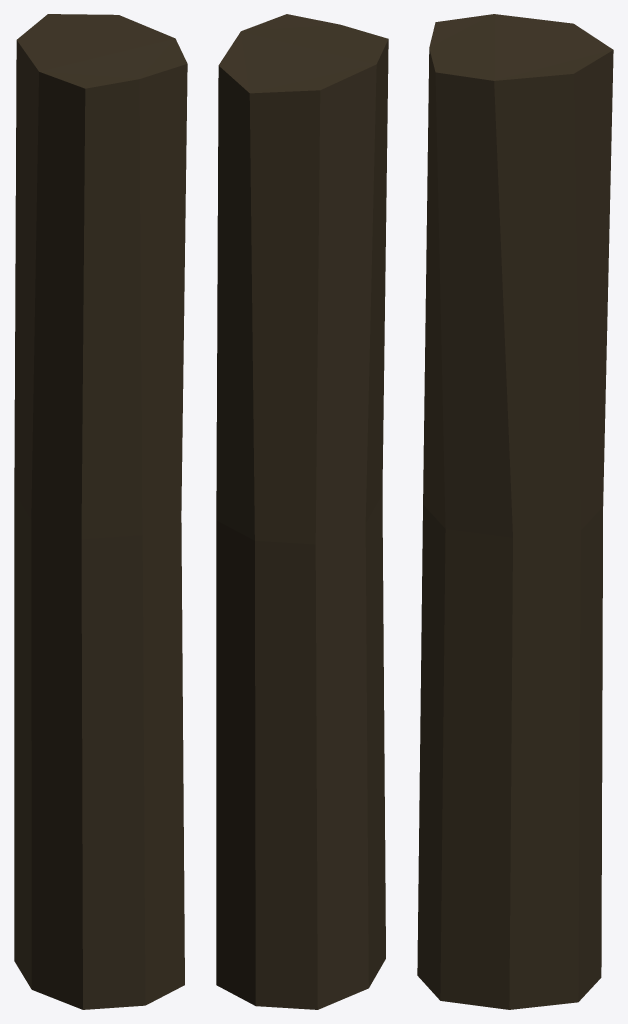
File: EA03_Wooden_Pin_01b.glb
3 renders of one model, left to right at view 1: azimuth 30°, elevation 25°; view 2: azimuth 150°, elevation 25°; view 3: azimuth 270°, elevation 25°, orthographic.
Parts seen in each view (by area): view 1: EA03_Wooden_Pin_01b; view 2: EA03_Wooden_Pin_01b; view 3: EA03_Wooden_Pin_01b.
Part boxes in pixels (bbox=[...]): EA03_Wooden_Pin_01b: bbox=[14, 14, 187, 1009]; EA03_Wooden_Pin_01b: bbox=[216, 14, 388, 1009]; EA03_Wooden_Pin_01b: bbox=[417, 14, 613, 1009].
Size of the model in its own units: 0.2297 by 1.49 by 0.2844.
Materials: 1 (1 with a texture image).
